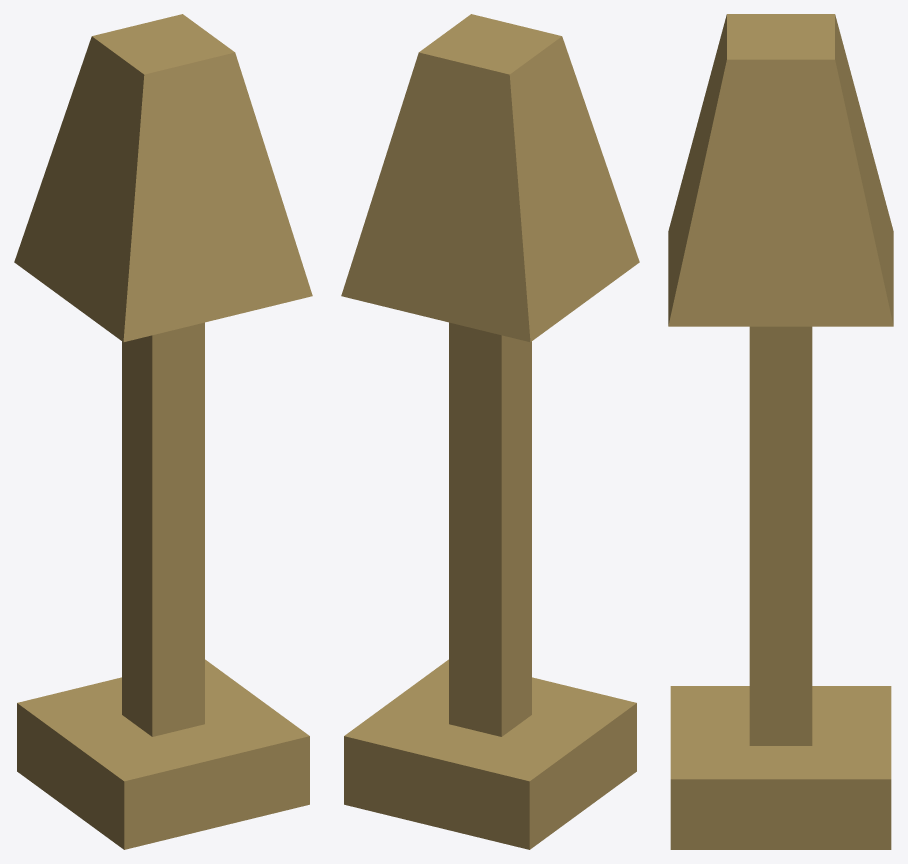
3 renders of one model, left to right at view 1: azimuth 30°, elevation 25°; view 2: azimuth 150°, elevation 25°; view 3: azimuth 270°, elevation 25°, orthographic. The views are drawn at different scales.
Visible parts, largest first — view 1: OJ2_3; view 2: OJ2_3; view 3: OJ2_3.
Boxes of the visible parts, <box> form: OJ2_3: <box>14,14,312,849</box>; OJ2_3: <box>341,14,639,849</box>; OJ2_3: <box>668,14,893,849</box>.
Bounding box in the file's own units: 0.5787 × 2.17 × 0.5787.
Materials: 1 (1 with a texture image).
